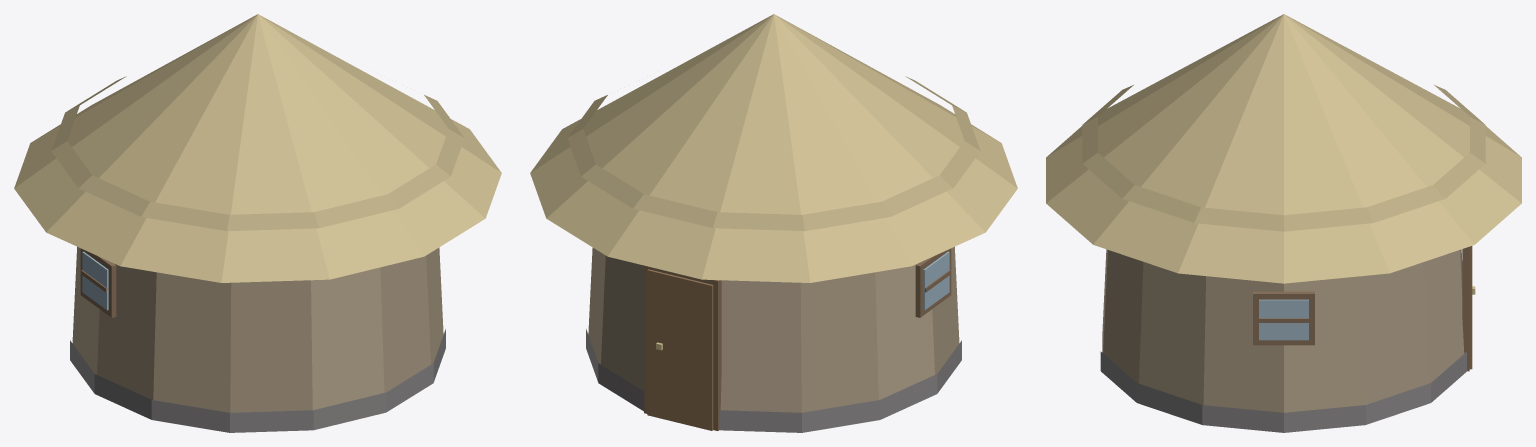
Rendered from house_hut.glb.
The picture shows the model from 3 angles, left to right: view 1: azimuth 30°, elevation 25°; view 2: azimuth 150°, elevation 25°; view 3: azimuth 270°, elevation 25°; orthographic projection.
Parts seen in each view (by area): view 1: house_hut; view 2: house_hut; view 3: house_hut.
Boxes of the visible parts, x1,y1,x2,y2 form: house_hut: [14, 14, 501, 432]; house_hut: [530, 14, 1017, 432]; house_hut: [1046, 14, 1521, 432].
Bounding box in the file's own units: 5.5 × 4.22 × 5.36.
